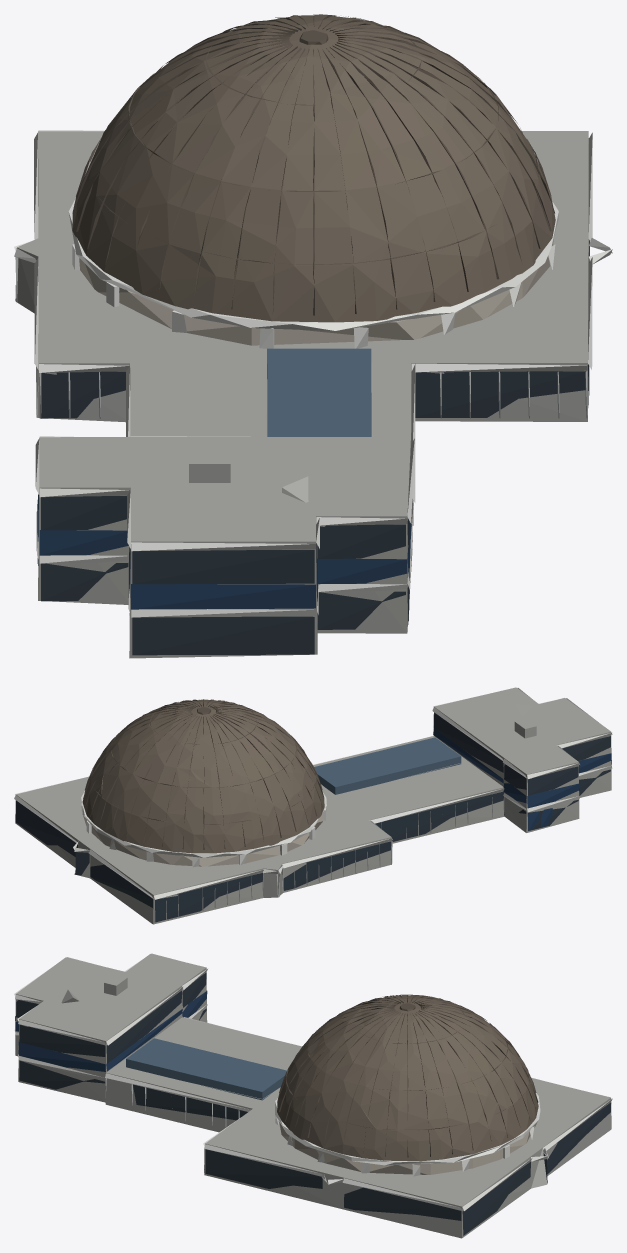
File: artis-planetarium.lod1.glb
3 views of the same model, one above another, from view 1: azimuth 30°, elevation 25°; view 2: azimuth 150°, elevation 25°; view 3: azimuth 270°, elevation 25° (orthographic). The views are drawn at different scales.
Visible parts, largest first — view 1: artis-planetarium; view 2: artis-planetarium; view 3: artis-planetarium.
Boxes of the visible parts, <box> form: artis-planetarium: <box>14,14,612,658</box>; artis-planetarium: <box>14,687,612,924</box>; artis-planetarium: <box>14,953,612,1238</box>.
Size of the model in its own units: 51.37 by 15.69 by 58.37.
